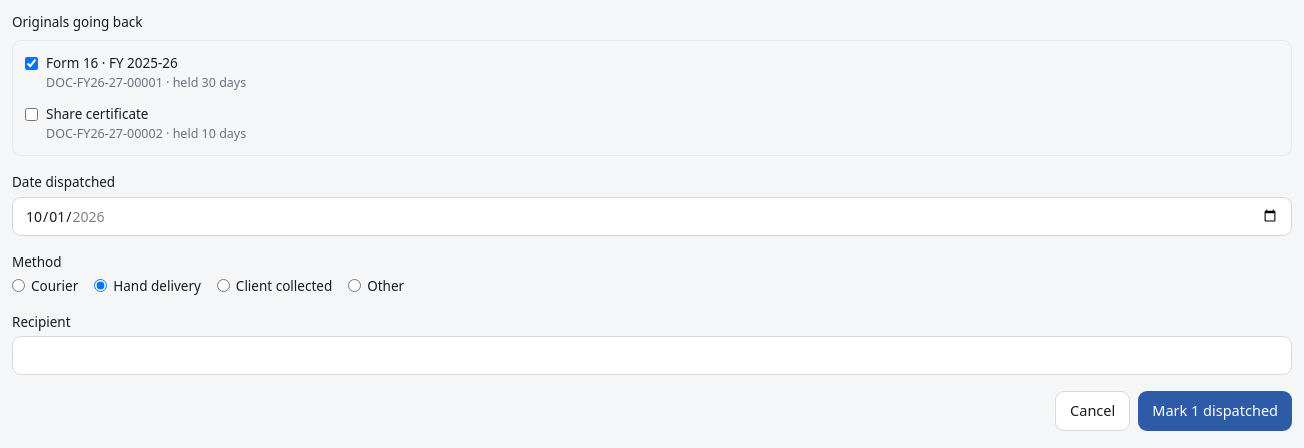
Test: DispatchForm (AC-8, AC-9) › when an original is no longer ready, re-lists the valid ones and drops its tick (AC-9)
This screenshot has width=1304, height=448.
Step 1. Click the checkbox labelled "Share certificate DOC-FY26-27-00002 · held 10 days" → (32, 115), box [25,108,38,121]
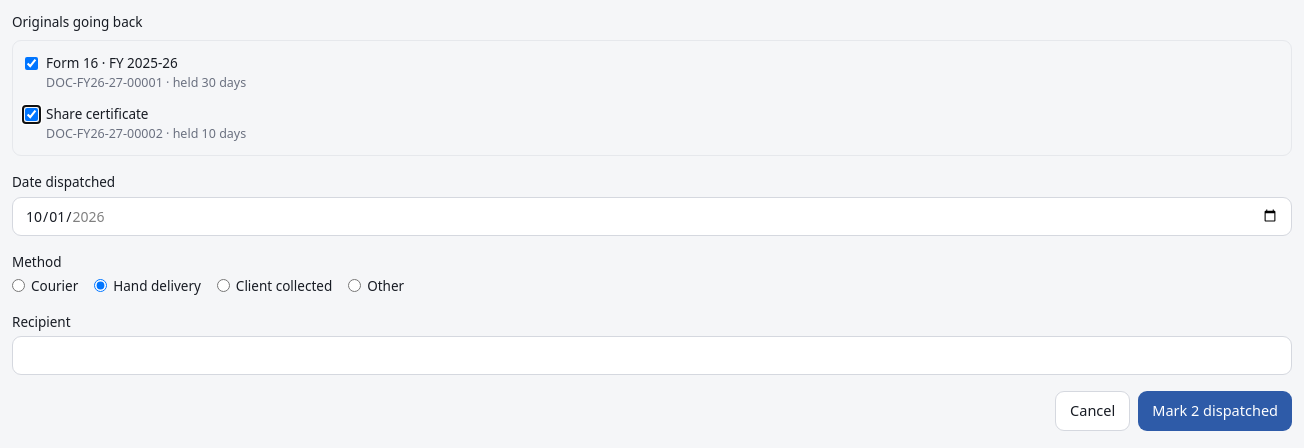
Step 2. Type "R Kumar" into the field labelled "Recipient" → (652, 356), box [12,336,1292,375]
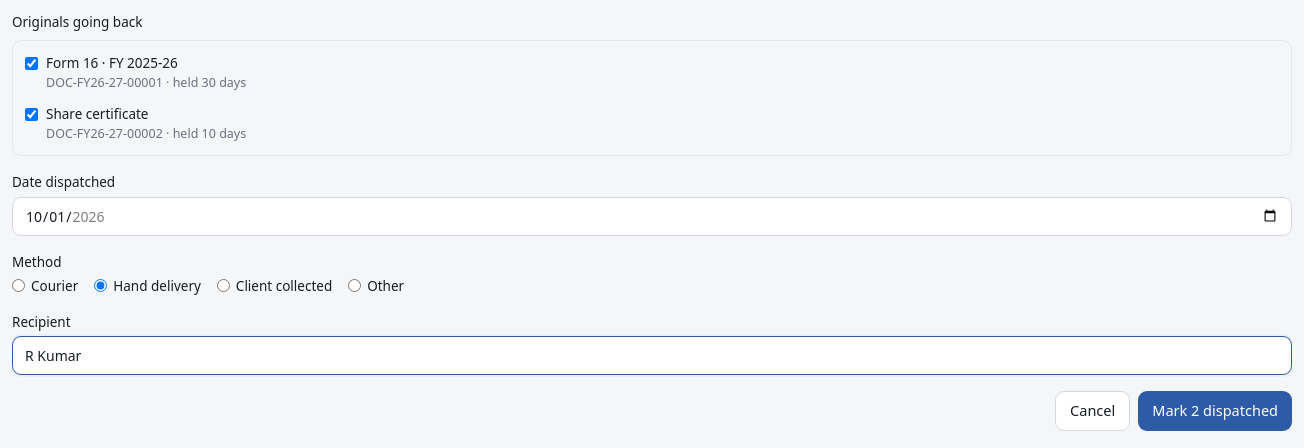
Step 3. Click the button "Mark 2 dispatched" → (1215, 411), box [1138,391,1292,431]
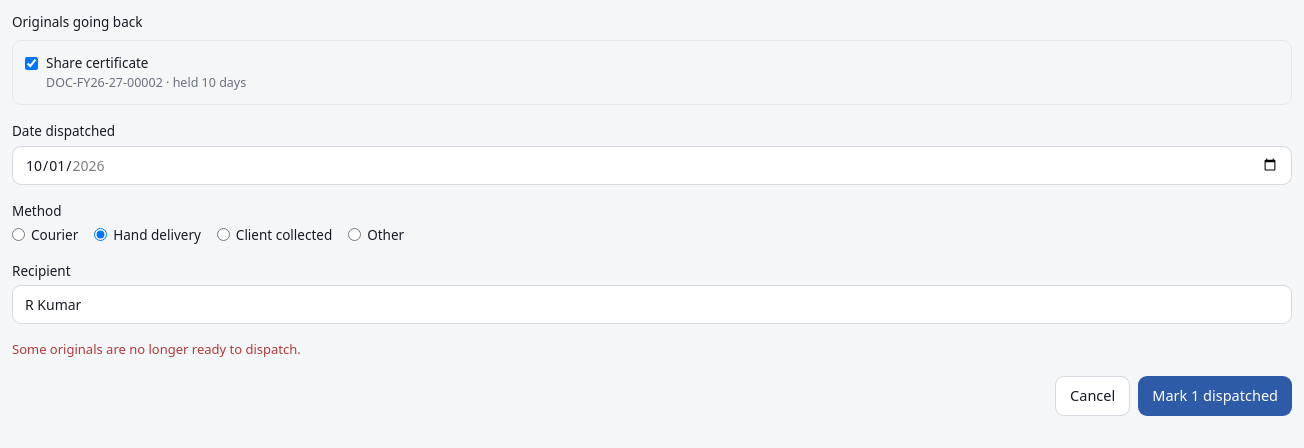
Expected: the button "Mark 1 dispatched" is enabled, [1138,376,1292,416]
Expected: the message shows "no longer ready", [12,340,301,358]
Expected: the checkbox labelled "Form 16" is gone
